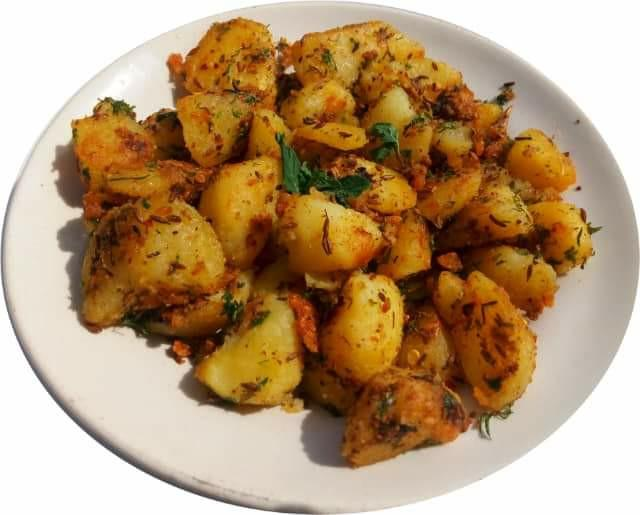AlooMasala: (70, 17, 595, 470)
